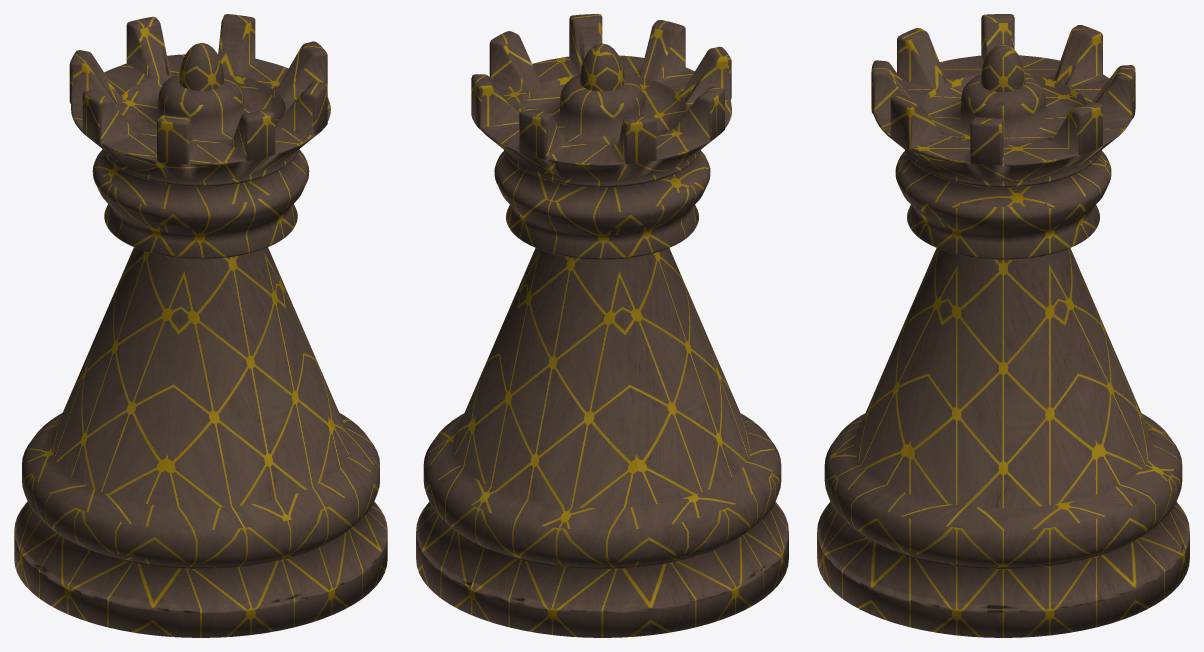
Rendered from ALL.gltf.
The picture shows the model from 3 angles, left to right: view 1: azimuth 30°, elevation 25°; view 2: azimuth 150°, elevation 25°; view 3: azimuth 270°, elevation 25°; orthographic projection.
Visible parts, largest first — view 1: Queen.001; view 2: Queen.001; view 3: Queen.001.
Part boxes in pixels (x1,y1,x2,y2): Queen.001: (14, 14, 387, 637); Queen.001: (416, 14, 788, 637); Queen.001: (817, 14, 1189, 637).
Size of the model in its own units: 0.0218 by 0.0332 by 0.0218.
Materials: 1 (1 with a texture image).
